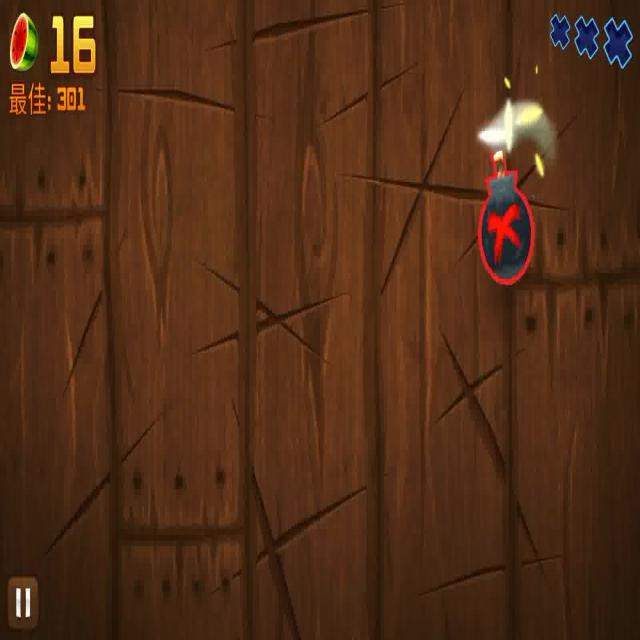bomb: (477, 120, 537, 291)
